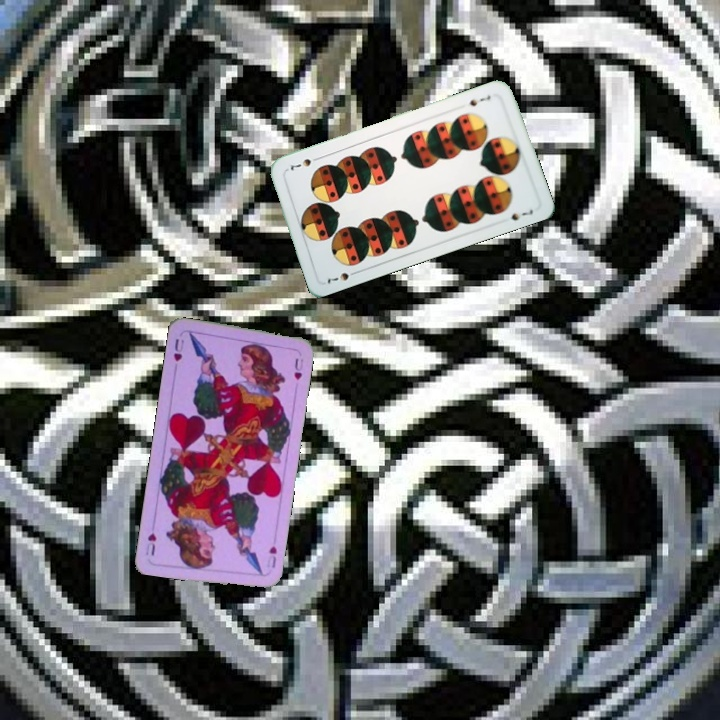HU: (169, 335, 186, 372), (265, 542, 279, 570)
S7: (323, 267, 361, 286), (463, 91, 493, 109)
